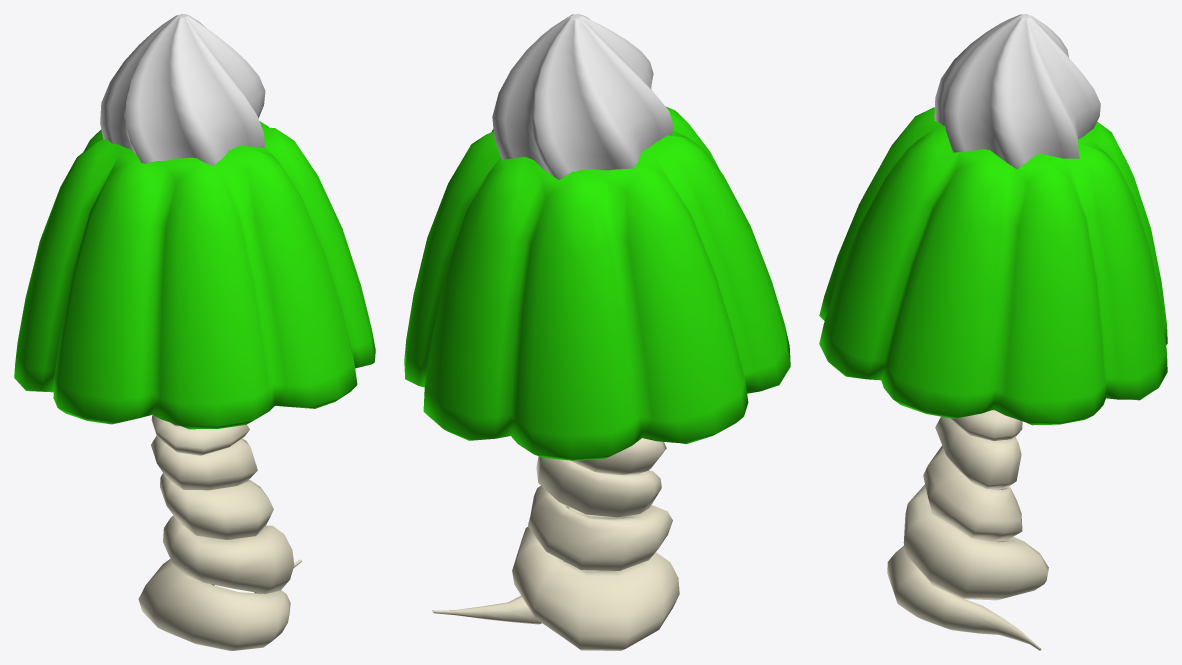
The model's file is arbol_gelatina2.fbx.
3 renders of one model, left to right at view 1: azimuth 30°, elevation 25°; view 2: azimuth 150°, elevation 25°; view 3: azimuth 270°, elevation 25°, orthographic. The views are drawn at different scales.
Visible parts, largest first — view 1: gelatina, Tronco, Nata; view 2: gelatina, Tronco, Nata; view 3: gelatina, Tronco, Nata.
Part boxes in pixels (x1,y1,x2,y2): gelatina: [14, 121, 375, 429]; Tronco: [138, 415, 301, 650]; Nata: [100, 14, 265, 165]; gelatina: [404, 106, 790, 460]; Tronco: [432, 438, 679, 650]; Nata: [492, 14, 673, 179]; gelatina: [819, 107, 1167, 425]; Tronco: [887, 409, 1048, 650]; Nata: [934, 14, 1100, 169].
Size of the model in its own units: 304 by 565 by 303.
